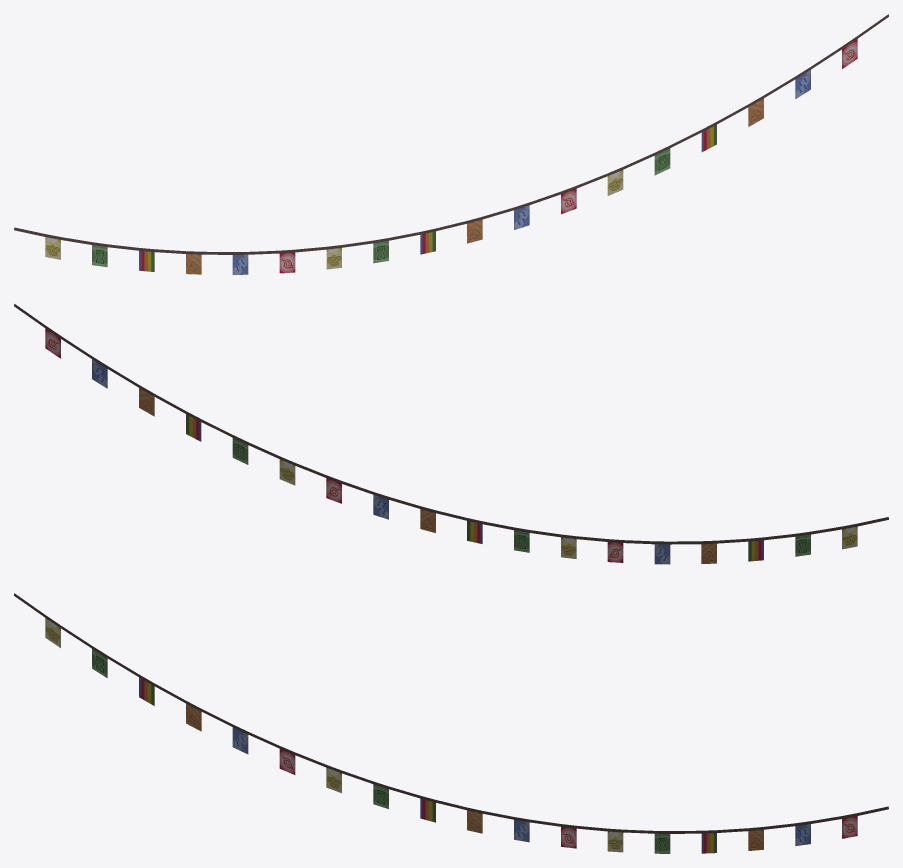
File: SM_ENV_KNVLLG_Flags_Single.fbx
The picture shows the model from 3 angles, top to bottom: view 1: azimuth 30°, elevation 25°; view 2: azimuth 150°, elevation 25°; view 3: azimuth 330°, elevation 25°; orthographic projection.
Parts seen in each view (by area): view 1: SM_ENV_KNVLLG_Flags_Single.mo; view 2: SM_ENV_KNVLLG_Flags_Single.mo; view 3: SM_ENV_KNVLLG_Flags_Single.mo.
Boxes of the visible parts, x1,y1,x2,y2 form: SM_ENV_KNVLLG_Flags_Single.mo: [14, 14, 888, 274]; SM_ENV_KNVLLG_Flags_Single.mo: [14, 304, 888, 564]; SM_ENV_KNVLLG_Flags_Single.mo: [14, 593, 888, 853].
Bounding box in the file's own units: 6863 × 951 × 0.6136.
